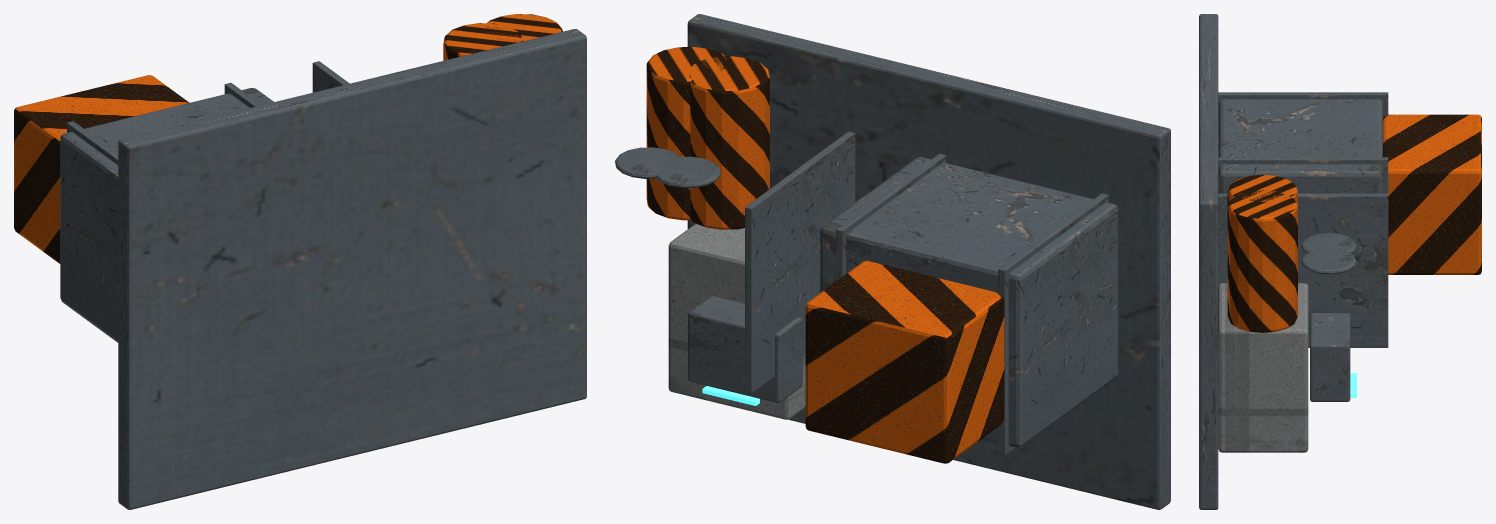
Rendered from cargo_service_cluster.glb.
3 views of the same model, side by side, from view 1: azimuth 30°, elevation 25°; view 2: azimuth 150°, elevation 25°; view 3: azimuth 270°, elevation 25° (orthographic). The views are drawn at different scales.
Parts seen in each view (by area): view 1: CargoPallet, CargoCrateLarge, CargoCrateTop, CargoDrum_1.32, CargoDrum_1.62, CargoStrap_0.56; view 2: CargoPallet, CargoCrateLarge, CargoCrateTop, CargoStrap_0.56, CargoDrum_1.32, CargoCrateSmall, CargoScannerCase, CargoDrum_1.62, CargoStrap_-1.42, CargoStrap_-0.15, CargoDrumCap_1.32, CargoDrumCap_1.62; view 3: CargoCrateTop, CargoCrateLarge, CargoCrateSmall, CargoStrap_0.56, CargoPallet, CargoDrum_1.62, CargoScannerCase, CargoStrap_-0.15, CargoStrap_-1.42, CargoDrum_1.32, CargoDrumCap_1.62, CargoDrumCap_1.32.
Boxes of the visible parts, x1,y1,x2,y2 form: CargoPallet: (118, 29, 586, 509); CargoCrateLarge: (60, 88, 273, 342); CargoCrateTop: (14, 75, 189, 263); CargoDrum_1.32: (443, 23, 521, 60); CargoDrum_1.62: (485, 14, 562, 44); CargoStrap_0.56: (312, 61, 349, 92); CargoPallet: (687, 14, 1170, 509); CargoCrateLarge: (820, 157, 1118, 447); CargoCrateTop: (805, 260, 1004, 463); CargoStrap_0.56: (745, 131, 855, 393); CargoDrum_1.32: (689, 56, 769, 229); CargoCrateSmall: (668, 223, 805, 419); CargoScannerCase: (688, 296, 802, 402); CargoDrum_1.62: (646, 47, 727, 220); CargoStrap_-1.42: (998, 193, 1108, 455); CargoStrap_-0.15: (836, 153, 946, 280); CargoDrumCap_1.32: (655, 156, 720, 188); CargoDrumCap_1.62: (615, 147, 679, 178); CargoCrateTop: (1383, 114, 1481, 274); CargoCrateLarge: (1219, 99, 1382, 193); CargoCrateSmall: (1218, 283, 1308, 452); CargoStrap_0.56: (1218, 193, 1388, 347); CargoPallet: (1199, 14, 1218, 509); CargoDrum_1.62: (1227, 190, 1297, 332); CargoScannerCase: (1310, 313, 1350, 401); CargoStrap_-0.15: (1218, 157, 1388, 193); CargoStrap_-1.42: (1218, 92, 1388, 157); CargoDrum_1.32: (1227, 174, 1297, 205); CargoDrumCap_1.62: (1301, 250, 1356, 274); CargoDrumCap_1.32: (1301, 233, 1356, 253).
Bounding box in the file's own units: 3.76 × 2.8 × 2.33.
Materials: 5 (5 with a texture image).
